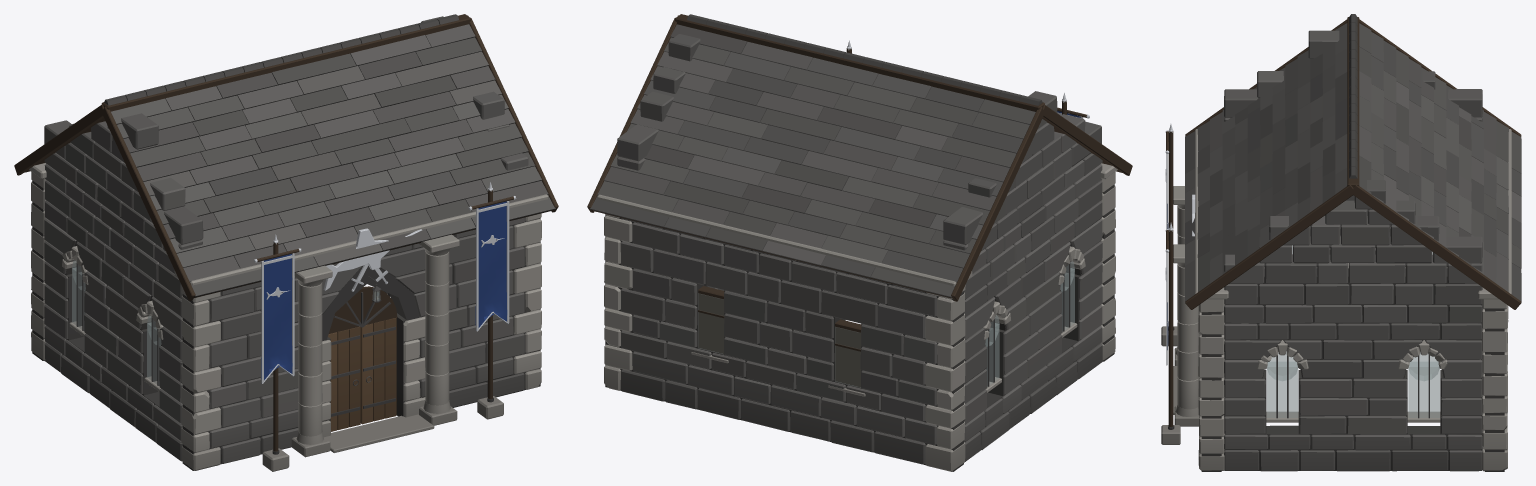
The model's file is guild_hall_swordfin.glb.
The picture shows the model from 3 angles, left to right: view 1: azimuth 30°, elevation 25°; view 2: azimuth 150°, elevation 25°; view 3: azimuth 270°, elevation 25°; orthographic projection. The views are drawn at different scales.
Parts seen in each view (by area): view 1: guild_hall_swordfin; view 2: guild_hall_swordfin; view 3: guild_hall_swordfin.
Boxes of the visible parts, x1=… form: guild_hall_swordfin: x1=14, y1=14, x2=558, y2=471; guild_hall_swordfin: x1=587, y1=14, x2=1132, y2=471; guild_hall_swordfin: x1=1161, y1=14, x2=1521, y2=471.
Size of what is drawn, in the model's own units: 11.28 by 9.21 by 10.18.
